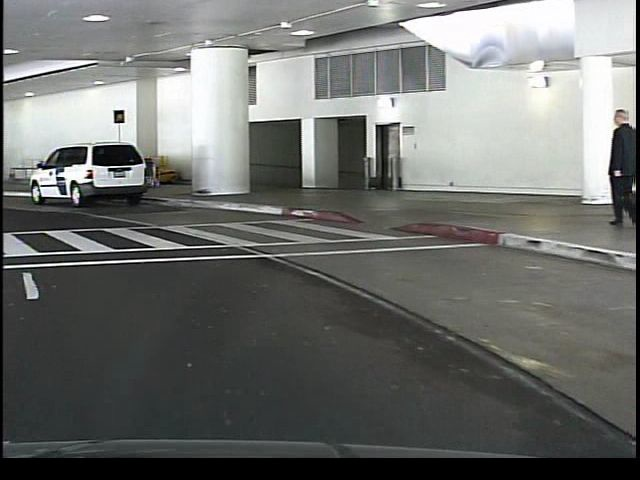person: (595, 106, 633, 228)
